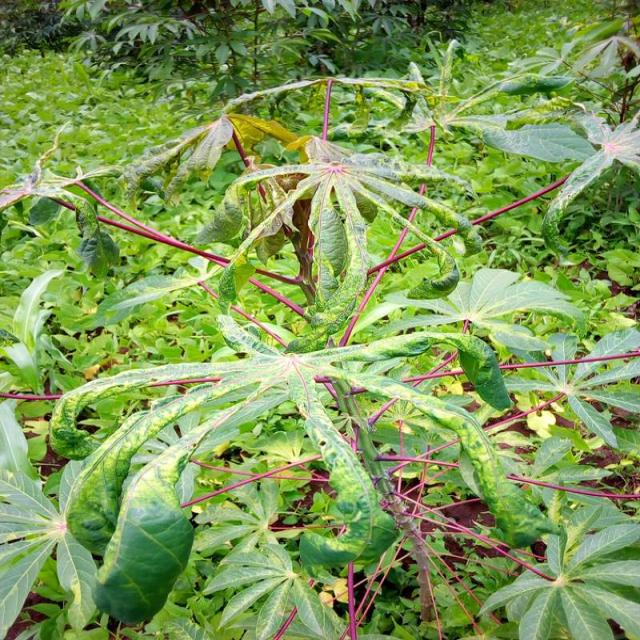Mosaico: (81, 335, 504, 558), (190, 142, 506, 305), (133, 85, 392, 201)
